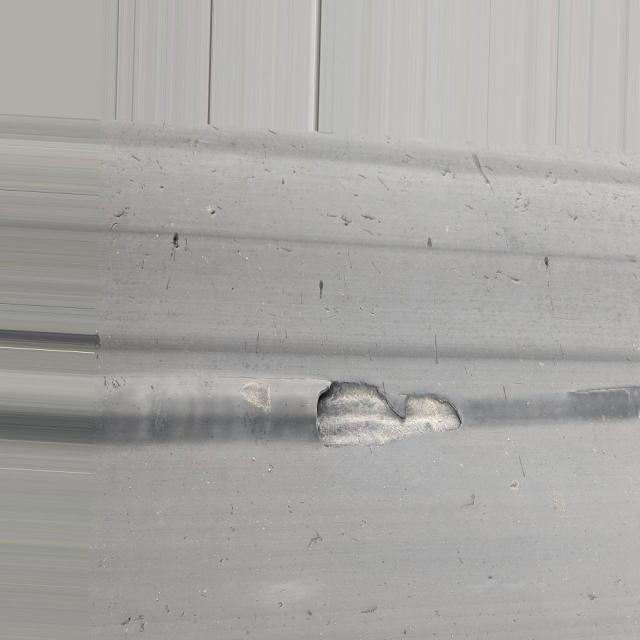Tear: (312, 375, 466, 452)
impact damage: (22, 361, 640, 463)
